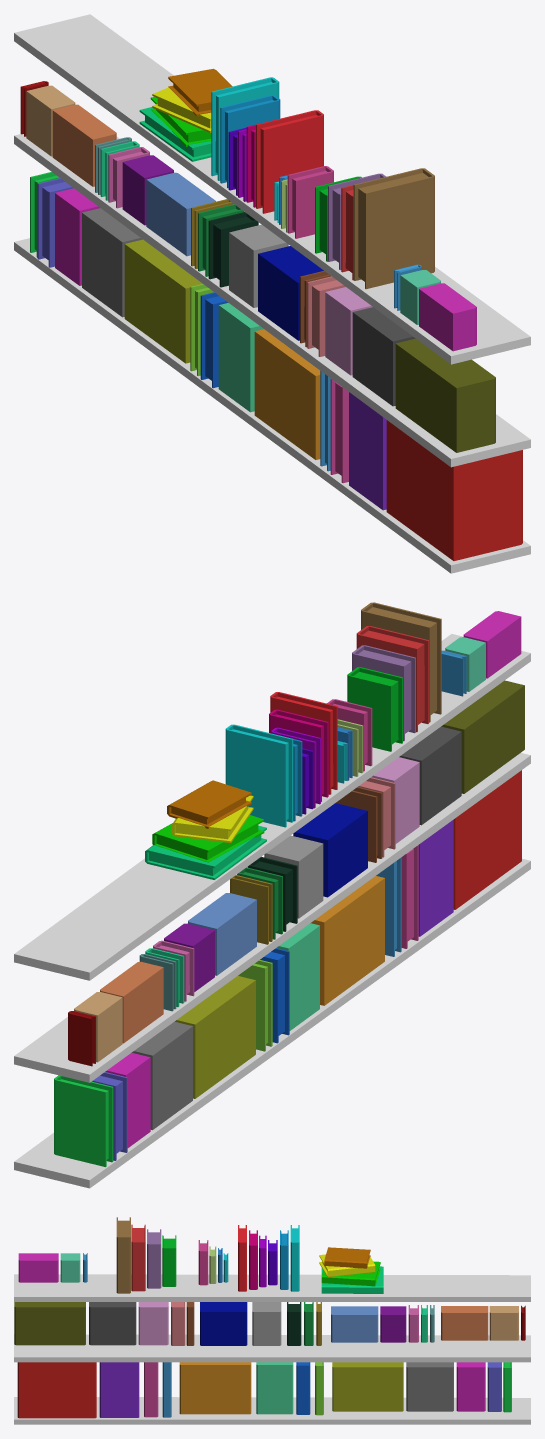
The model's file is books_a02.fbx.
The picture shows the model from 3 angles, top to bottom: view 1: azimuth 30°, elevation 25°; view 2: azimuth 150°, elevation 25°; view 3: azimuth 270°, elevation 25°; orthographic projection. The views are drawn at different scales.
Parts seen in each view (by area): view 1: books; view 2: books; view 3: books.
Boxes of the visible parts, box(x1,y1,x2,y2) form: books: box(14, 14, 530, 573); books: box(14, 602, 530, 1188); books: box(14, 1217, 530, 1424).
Size of the model in its own units: 16.49 by 62.19 by 157.
